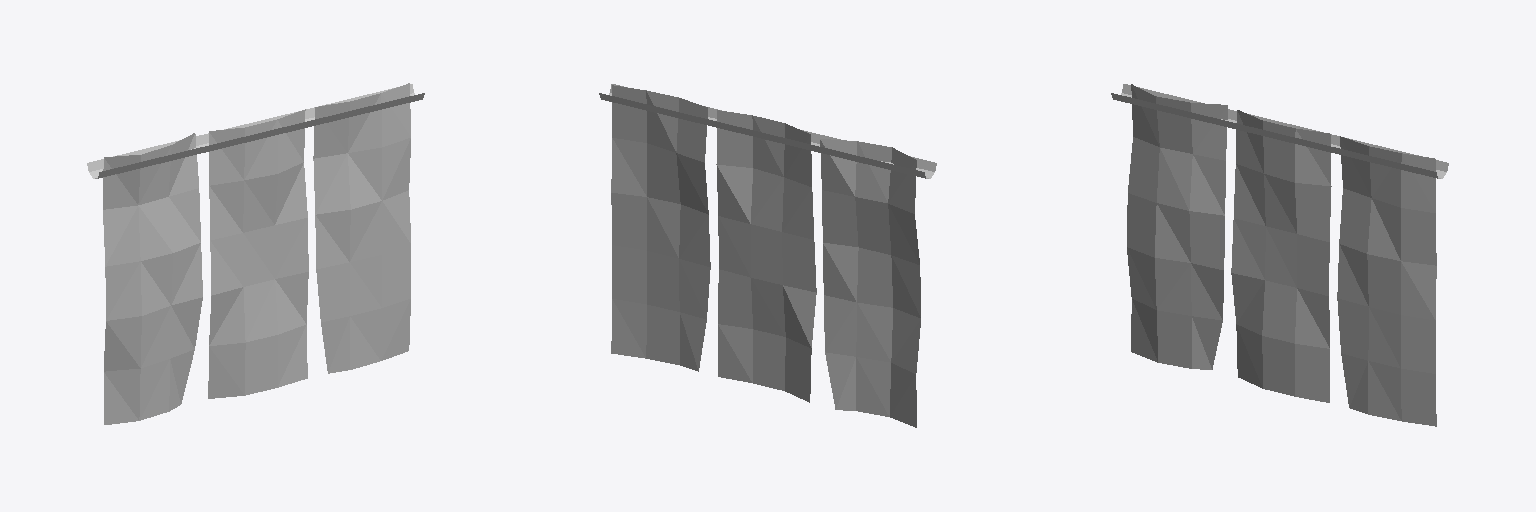
Rendered from cortina.obj.
3 views of the same model, side by side, from view 1: azimuth 30°, elevation 25°; view 2: azimuth 150°, elevation 25°; view 3: azimuth 330°, elevation 25° (orthographic).
Visible parts, largest first — view 1: polySurface301; view 2: polySurface301; view 3: polySurface301.
Part boxes in pixels (x1,y1,x2,y2): polySurface301: (87, 83, 424, 424); polySurface301: (599, 84, 936, 427); polySurface301: (1111, 84, 1448, 426).
Bounding box in the file's own units: 1.83 × 1.44 × 0.122.